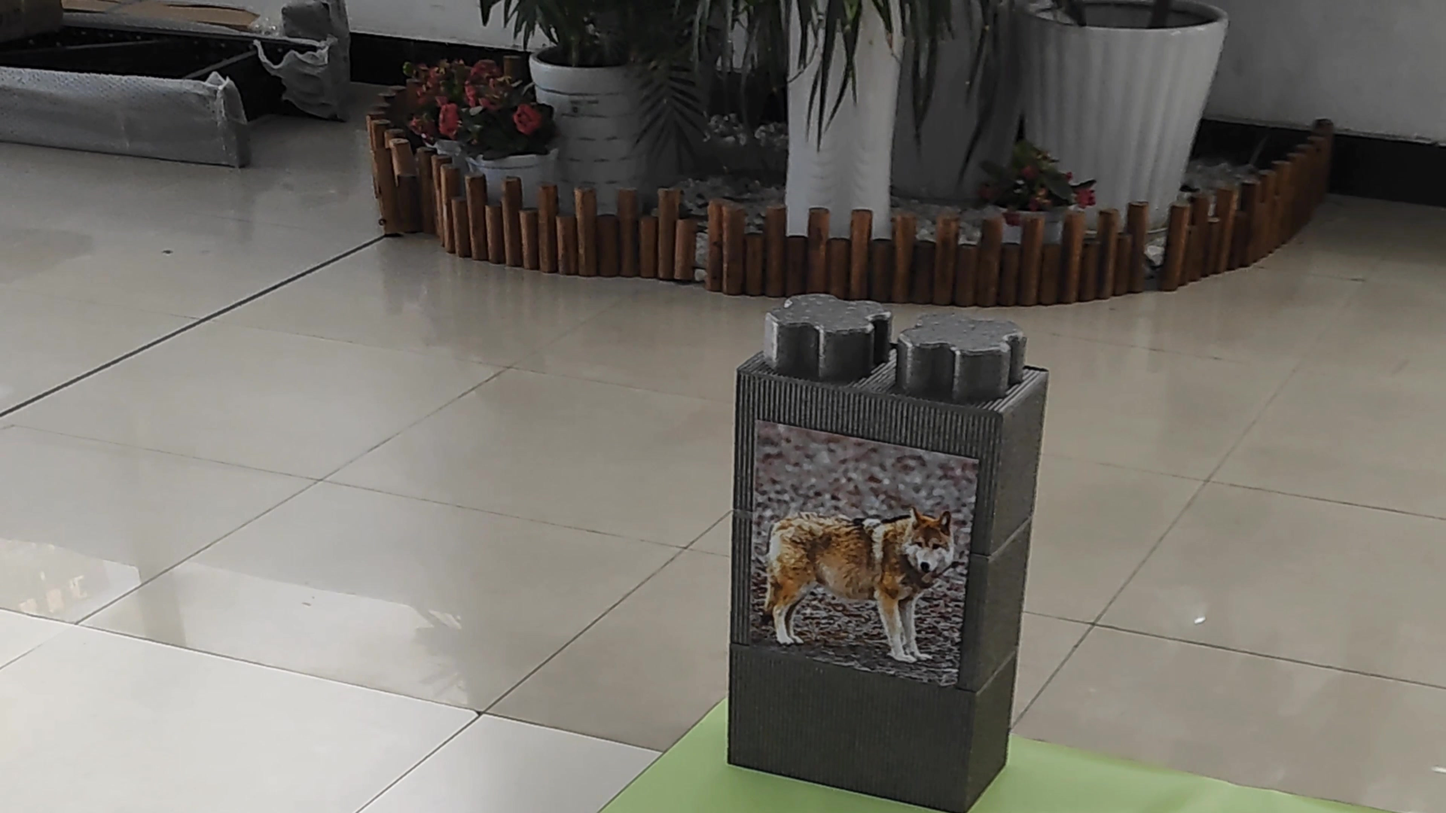wolf: (747, 432, 955, 677)
